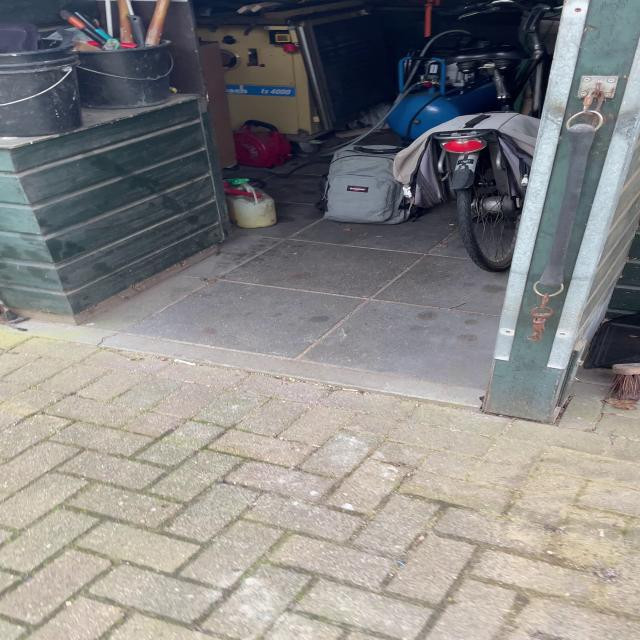backpack: (318, 141, 422, 227)
